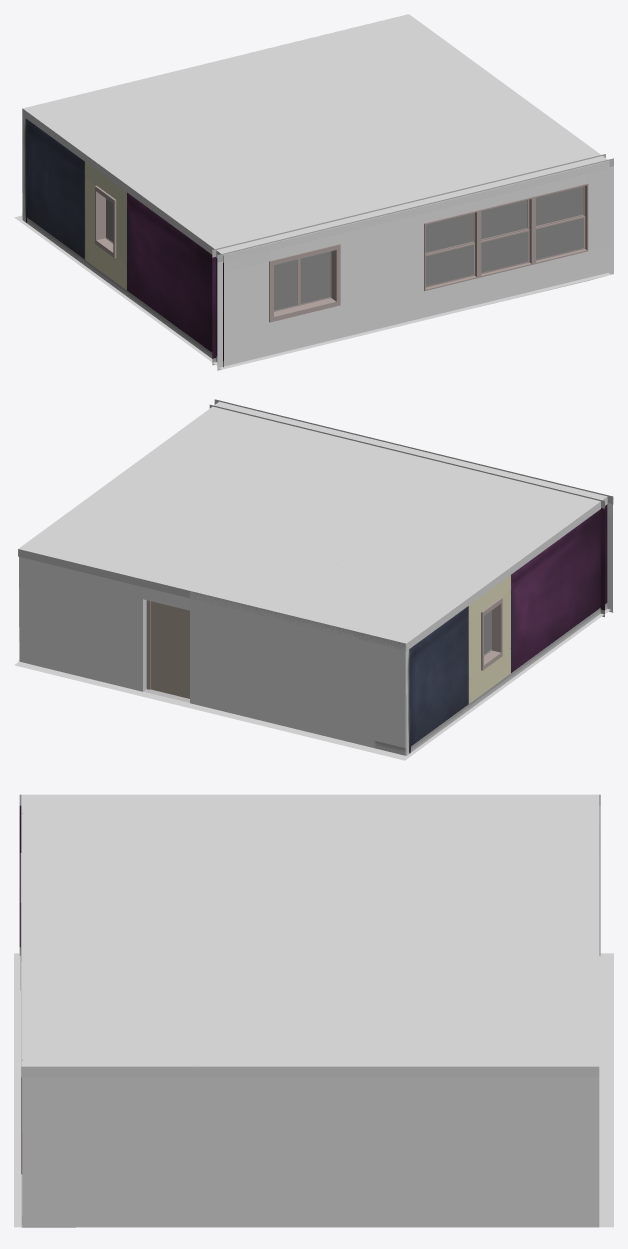
File: appartamento_porta3.FBX
3 renders of one model, top to bottom at view 1: azimuth 30°, elevation 25°; view 2: azimuth 150°, elevation 25°; view 3: azimuth 270°, elevation 25°, orthographic. The views are drawn at different scales.
Visible parts, largest first — view 1: Box001, muri, finestra salotto, INFISSO CAMERA DA LETTO, Plane001, INFISSO CAMERA DA LETTO001; view 2: Box001, muri, PORTA 002, Plane001, INFISSO CAMERA DA LETTO001; view 3: Box001, muri, Plane001, pavimento vero.
Part boxes in pixels (left/top/right/bottom): Box001: left=22, top=14, right=609, bottom=262; muri: left=22, top=108, right=613, bottom=370; finestra salotto: left=424, top=183, right=588, bottom=291; INFISSO CAMERA DA LETTO: left=269, top=244, right=340, bottom=322; Plane001: left=14, top=215, right=610, bottom=369; INFISSO CAMERA DA LETTO001: left=95, top=185, right=116, bottom=258; Box001: left=18, top=401, right=607, bottom=650; muri: left=19, top=399, right=613, bottom=755; PORTA 002: left=146, top=600, right=189, bottom=698; Plane001: left=14, top=607, right=613, bottom=760; INFISSO CAMERA DA LETTO001: left=481, top=598, right=502, bottom=670; Box001: left=21, top=794, right=599, bottom=1077; muri: left=19, top=794, right=600, bottom=1227; Plane001: left=14, top=953, right=613, bottom=1227; pavimento vero: left=21, top=1174, right=599, bottom=1227.
Size of the model in its own units: 405 by 117 by 368.
